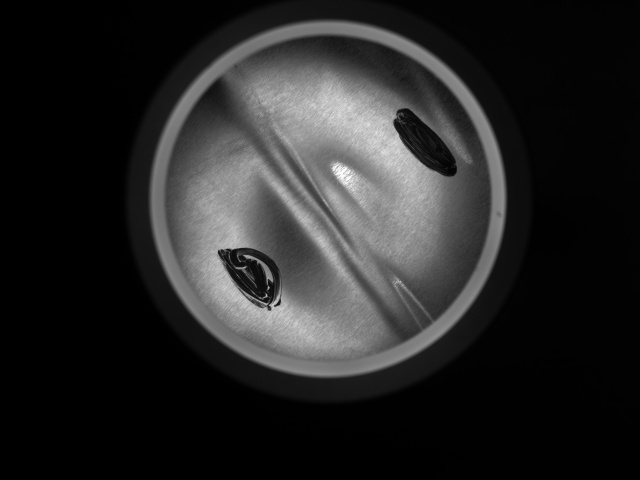zang_wu: (390, 105, 460, 178), (215, 244, 287, 311)
zhe_zhou: (200, 75, 454, 323)
